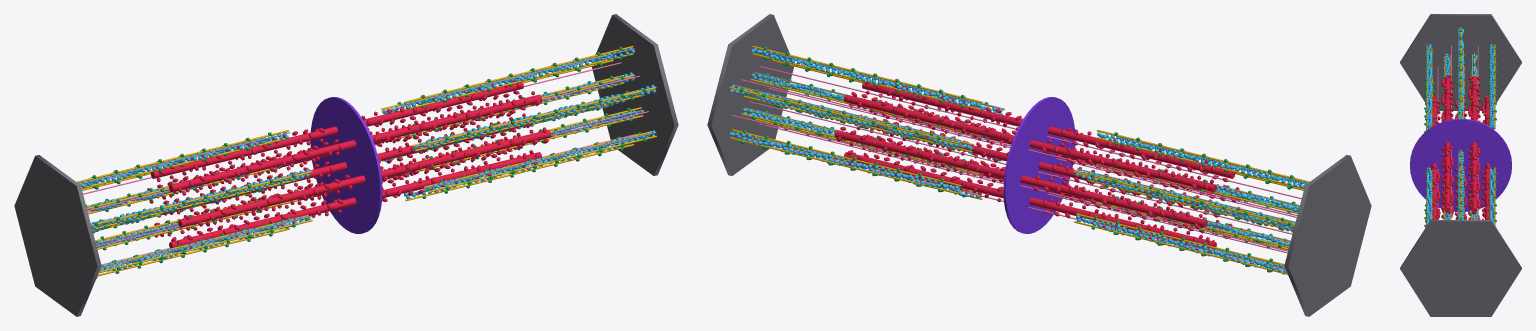
File: sarcomere.glb
3 renders of one model, left to right at view 1: azimuth 30°, elevation 25°; view 2: azimuth 150°, elevation 25°; view 3: azimuth 270°, elevation 25°, orthographic. The views are drawn at different scales.
Parts seen in each view (by area): view 1: Myosin, Z discs.l, Z discs.r, M line, Tropomyosin.r, Actin.r, Tropomyosin.l, Actin.l, Nebulin.r, Troponin.r, Nebulin.l, Troponin.l (+2 smaller); view 2: Myosin, Z discs.l, Z discs.r, M line, Actin.r, Tropomyosin.r, Actin.l, Tropomyosin.l, Titin.r, Titin.l, Troponin.r, Troponin.l (+2 smaller); view 3: Z discs.r, Z discs.l, M line, Myosin, Actin.l, Actin.r, Tropomyosin.l, Troponin.l, Tropomyosin.r, Troponin.r, Titin.l, Nebulin.l (+2 smaller).
Boxes of the visible parts, x1=… form: Myosin: x1=147, y1=81, x2=551, y2=252; Z discs.l: x1=14, y1=155, x2=101, y2=316; Z discs.r: x1=592, y1=14, x2=678, y2=175; M line: x1=310, y1=97, x2=382, y2=233; Tropomyosin.r: x1=381, y1=46, x2=656, y2=201; Actin.r: x1=382, y1=48, x2=656, y2=199; Tropomyosin.l: x1=76, y1=130, x2=312, y2=276; Actin.l: x1=78, y1=132, x2=310, y2=273; Nebulin.r: x1=384, y1=48, x2=656, y2=195; Troponin.r: x1=397, y1=46, x2=646, y2=198; Nebulin.l: x1=79, y1=132, x2=311, y2=269; Troponin.l: x1=86, y1=132, x2=295, y2=278; Myosin: x1=834, y1=79, x2=1241, y2=252; Z discs.l: x1=1284, y1=155, x2=1371, y2=316; Z discs.r: x1=707, y1=14, x2=793, y2=175; M line: x1=1003, y1=97, x2=1075, y2=233; Actin.r: x1=729, y1=48, x2=1002, y2=198; Tropomyosin.r: x1=729, y1=46, x2=1004, y2=199; Actin.l: x1=1075, y1=132, x2=1307, y2=275; Tropomyosin.l: x1=1073, y1=130, x2=1309, y2=274; Titin.r: x1=732, y1=66, x2=1015, y2=201; Titin.l: x1=1019, y1=136, x2=1301, y2=270; Troponin.r: x1=740, y1=46, x2=988, y2=197; Troponin.l: x1=1090, y1=132, x2=1298, y2=272; Z discs.r: x1=1400, y1=220, x2=1521, y2=316; Z discs.l: x1=1400, y1=14, x2=1521, y2=110; M line: x1=1410, y1=118, x2=1511, y2=211; Myosin: x1=1428, y1=75, x2=1493, y2=219; Actin.l: x1=1426, y1=29, x2=1495, y2=130; Actin.r: x1=1427, y1=151, x2=1494, y2=224; Tropomyosin.l: x1=1426, y1=27, x2=1495, y2=130; Troponin.l: x1=1424, y1=29, x2=1496, y2=132; Tropomyosin.r: x1=1426, y1=150, x2=1495, y2=226; Troponin.r: x1=1424, y1=155, x2=1496, y2=227; Titin.l: x1=1437, y1=45, x2=1478, y2=121; Nebulin.l: x1=1426, y1=28, x2=1490, y2=130.
Bounding box in the file's own units: 10.07 × 2.17 × 2.5.
